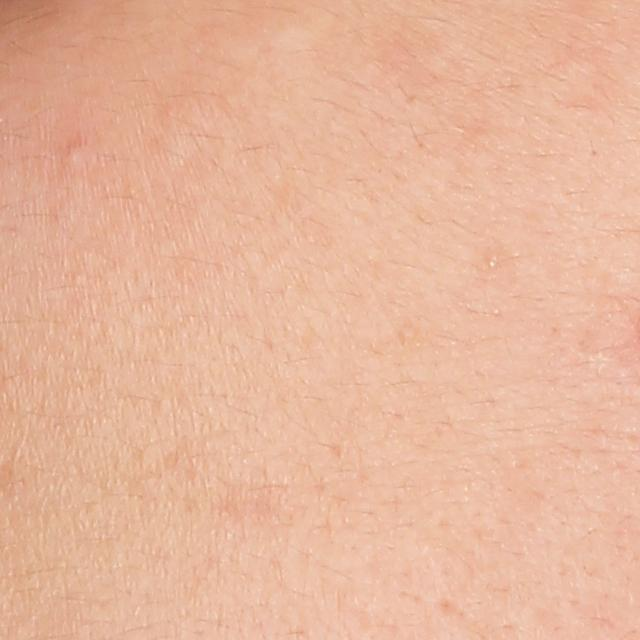comedo: (61, 145, 82, 170), (479, 251, 502, 273)
